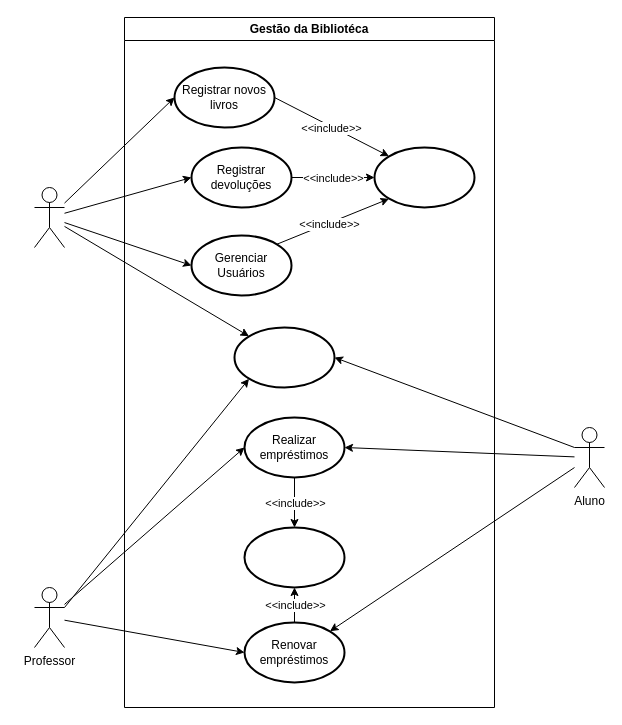
Image size: 622x725. Some labels were removed from this diagram. Here are the shapes that lost their labels. From the top down, the centre of each, then its label:
(424,177): Logar no sistema
(49,217): Bibliotecário
(284,357): Consultar livros
(294,557): Autorizar usuário
